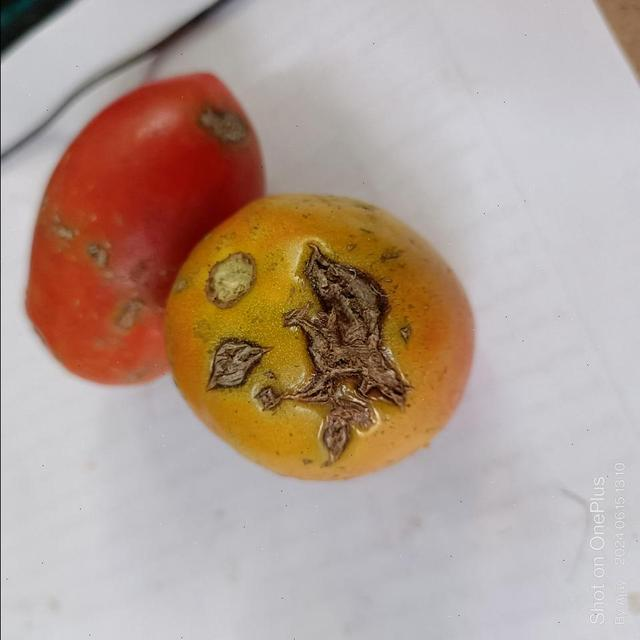Bacterial Spot Fruit: (19, 20, 224, 242)
